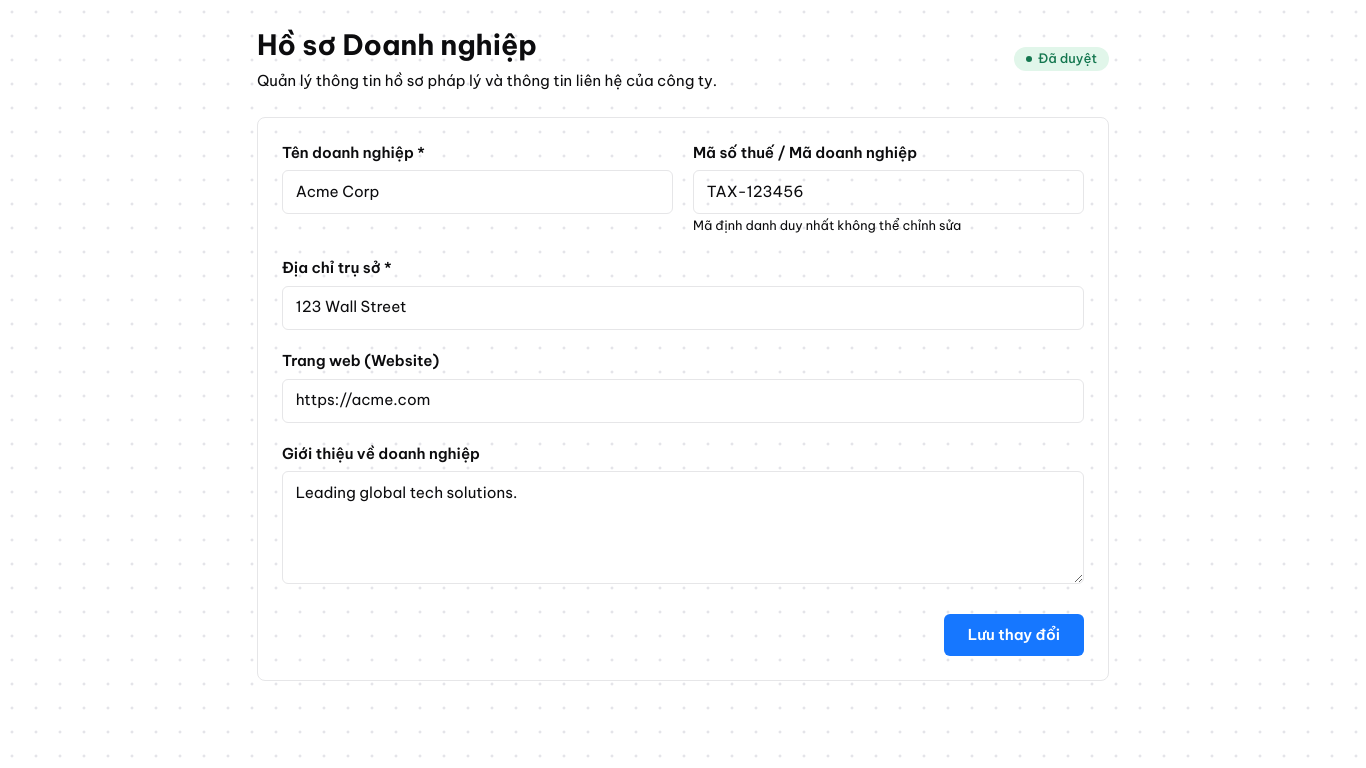
Test: CompanyDetailPage (UI16) › submits updated company details and shows success alert
Replace the text in the field with test id "company-name-input" with "Acme International": point(478, 192) [282,170,673,214]
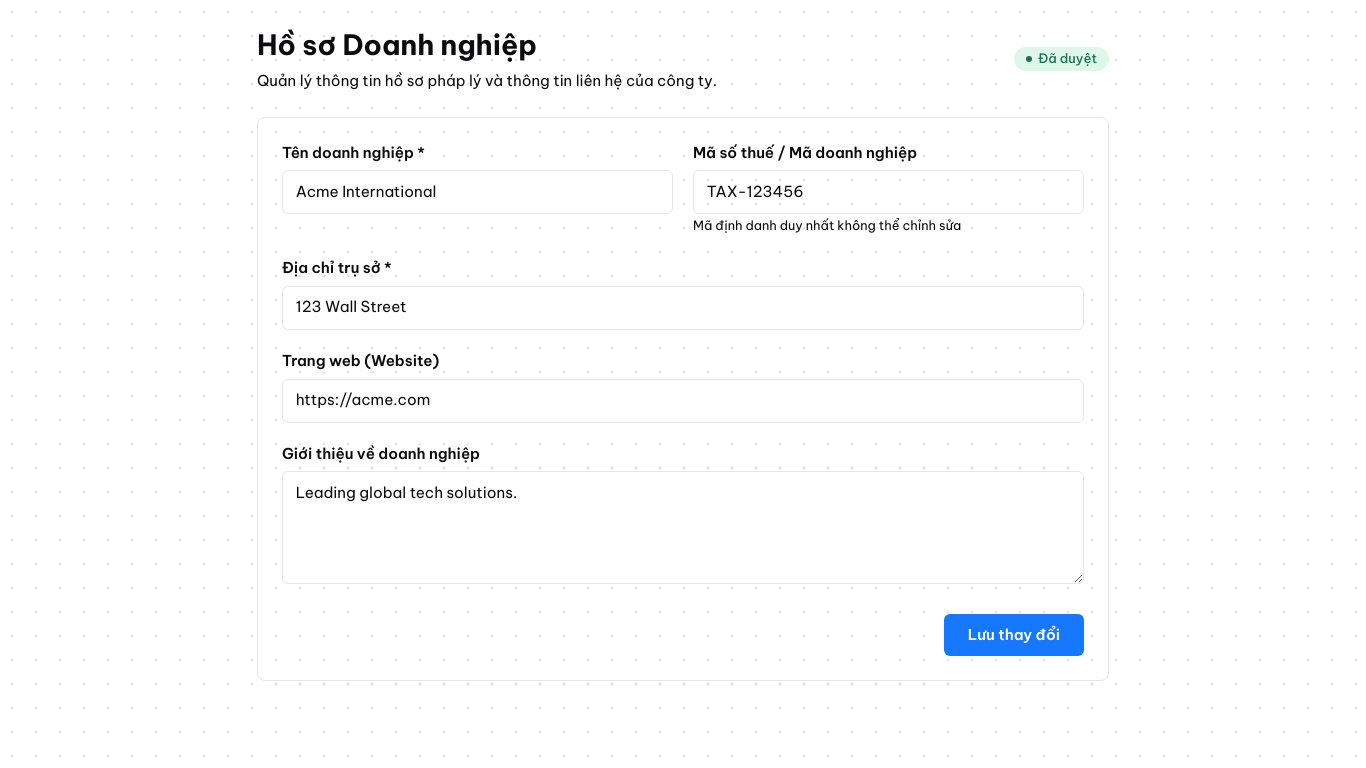
Click the button with test id "save-company-btn": point(1014, 635) [944,614,1084,656]
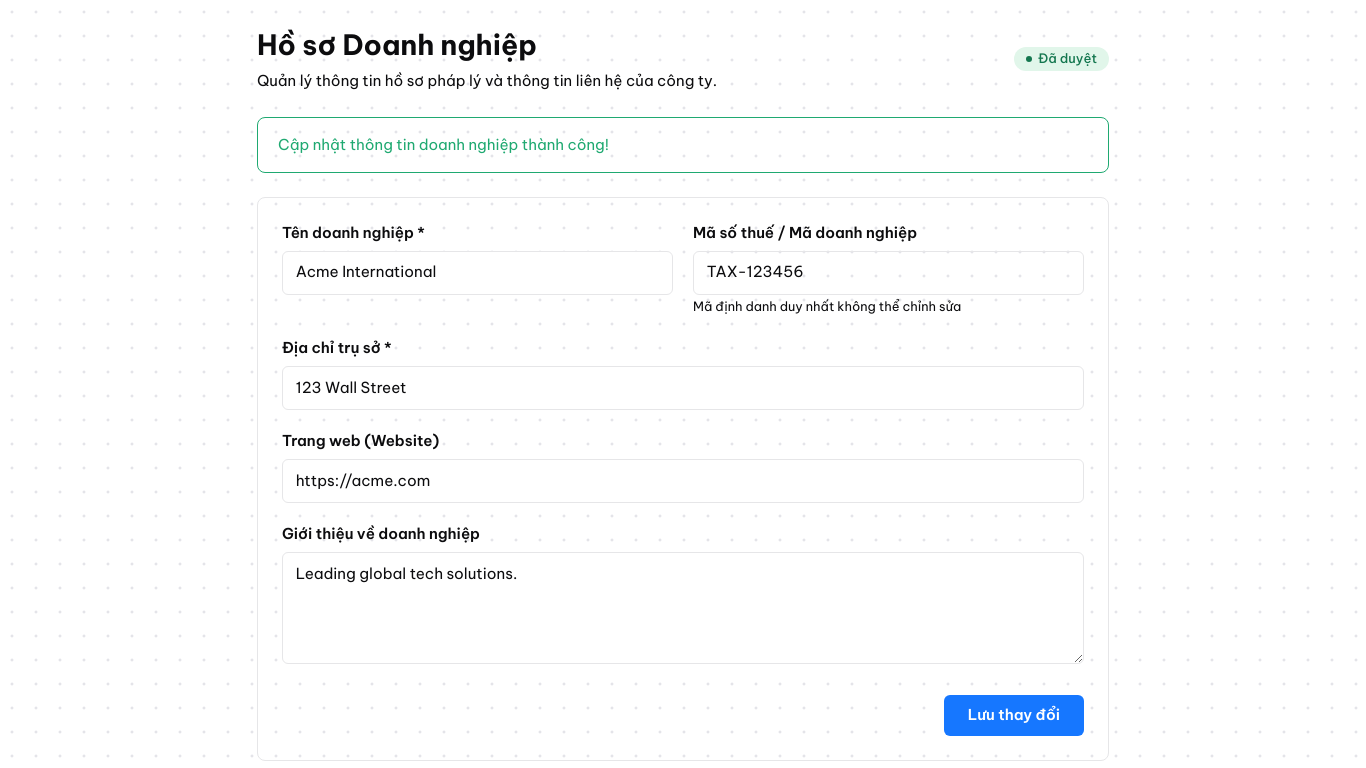
Check: the text "Cập nhật thông tin doanh nghiệp thành công!" is shown, box [257,116,1109,173]
